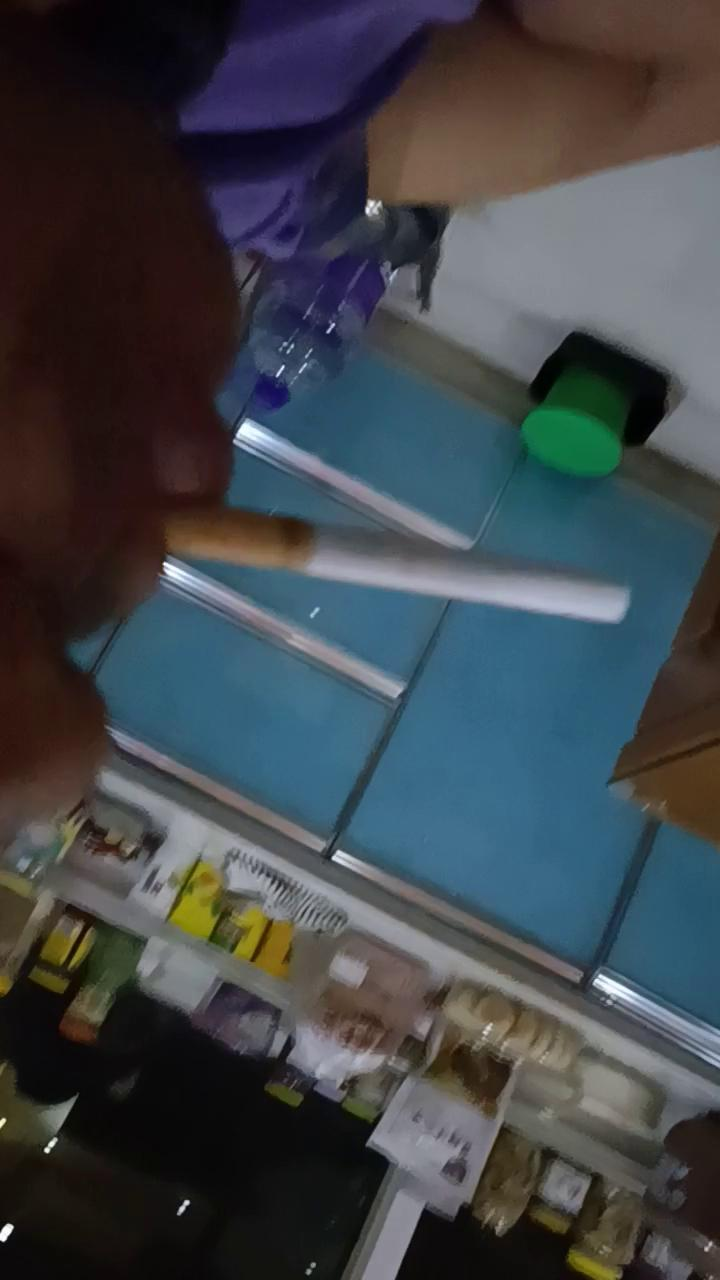smoke: (165, 505, 632, 624)
